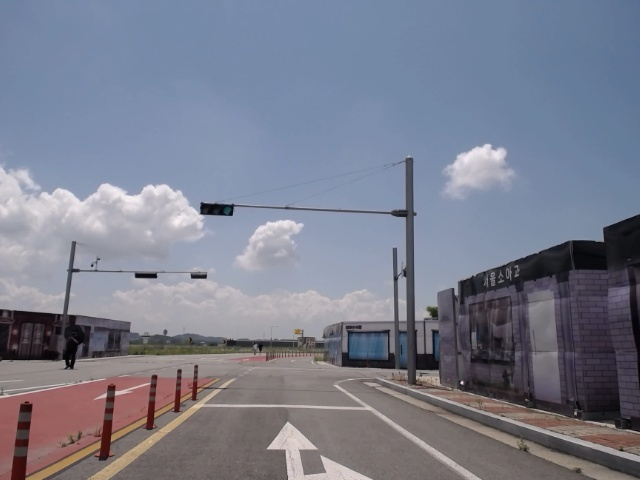green_3: (201, 204, 233, 216)
